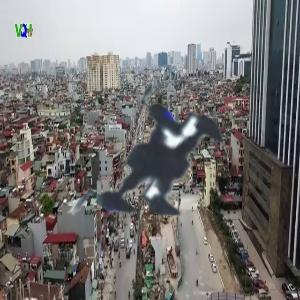drone: (23, 25, 295, 297)
